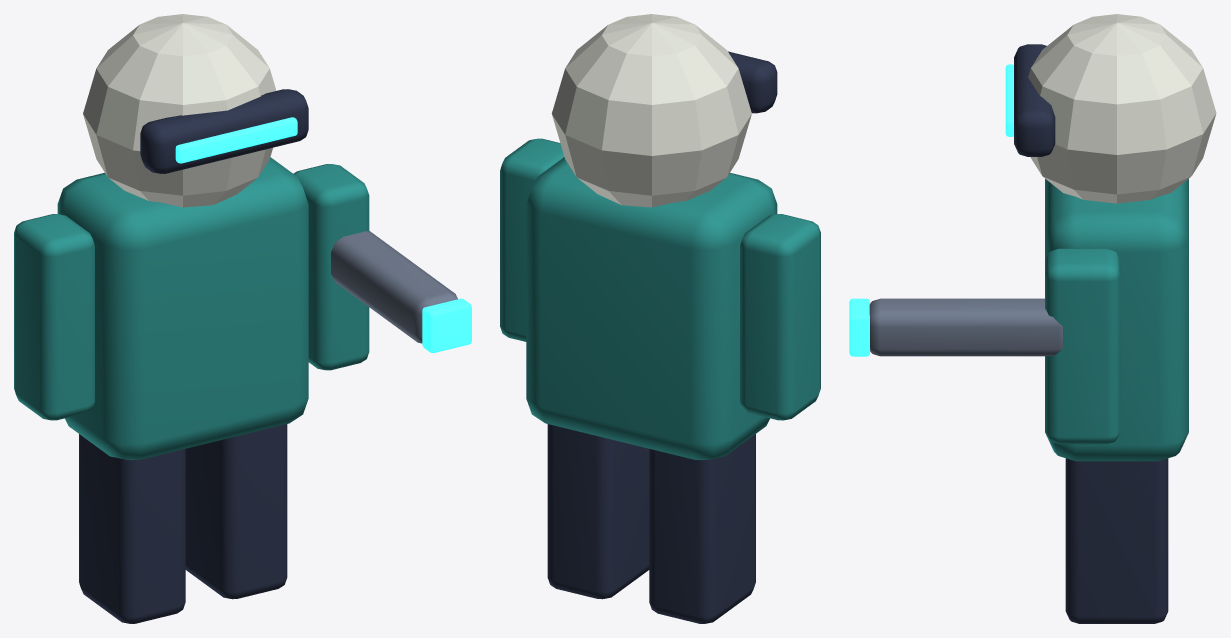
The model's file is player.glb.
3 views of the same model, side by side, from view 1: azimuth 30°, elevation 25°; view 2: azimuth 150°, elevation 25°; view 3: azimuth 270°, elevation 25° (orthographic).
Visible parts, largest first — view 1: Body, Head, LegL, LegR, ArmL, ArmR, Blaster, Visor, Eye strip, Muzzle; view 2: Body, Head, LegL, LegR, ArmL, ArmR, Visor; view 3: Head, Body, LegR, ArmR, Blaster, Visor, Muzzle, Eye strip.
Part boxes in pixels (x1=…): Body: x1=57, y1=157, x2=308, y2=459; Head: x1=83, y1=14, x2=276, y2=207; LegL: x1=79, y1=434, x2=185, y2=623; LegR: x1=185, y1=424, x2=287, y2=599; ArmL: x1=14, y1=214, x2=94, y2=420; ArmR: x1=293, y1=164, x2=369, y2=370; Blaster: x1=331, y1=231, x2=457, y2=343; Visor: x1=140, y1=89, x2=308, y2=173; Eye strip: x1=175, y1=117, x2=297, y2=163; Muzzle: x1=422, y1=298, x2=471, y2=352; Body: x1=526, y1=157, x2=777, y2=459; Head: x1=551, y1=14, x2=751, y2=207; LegL: x1=649, y1=434, x2=755, y2=623; LegR: x1=547, y1=424, x2=649, y2=599; ArmL: x1=740, y1=214, x2=820, y2=420; ArmR: x1=500, y1=138, x2=564, y2=341; Visor: x1=728, y1=51, x2=777, y2=113; Head: x1=1028, y1=14, x2=1216, y2=203; Body: x1=1045, y1=179, x2=1188, y2=461; LegR: x1=1065, y1=458, x2=1168, y2=623; ArmR: x1=1045, y1=248, x2=1120, y2=444; Blaster: x1=869, y1=298, x2=1062, y2=356; Visor: x1=1014, y1=44, x2=1055, y2=156; Muzzle: x1=849, y1=298, x2=869, y2=356; Eye strip: x1=1005, y1=64, x2=1013, y2=136.
Size of the model in its own units: 1.05 by 1.82 by 1.07.
